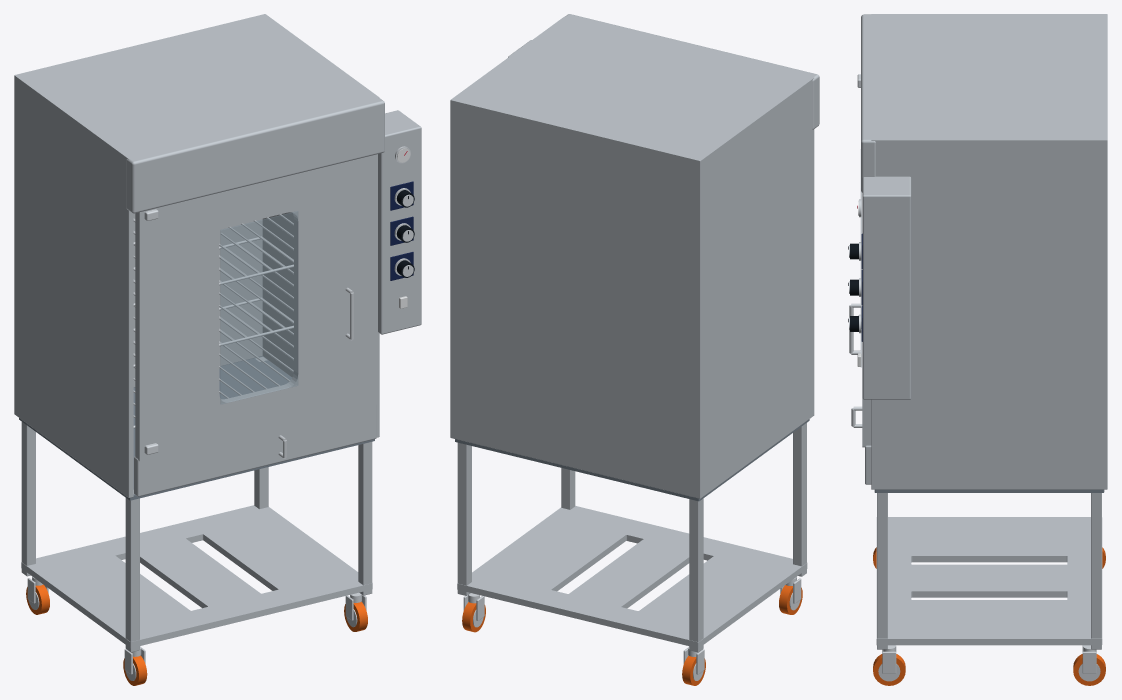
The model's file is horno-multiuso-v1.glb.
3 views of the same model, side by side, from view 1: azimuth 30°, elevation 25°; view 2: azimuth 150°, elevation 25°; view 3: azimuth 270°, elevation 25° (orthographic). The views are drawn at different scales.
Parts seen in each view (by area): view 1: Acero_satinado, Visor_vidrio, Acero_pulido, Interior_acero, Ruedas_naranjas, Placa_control_azul; view 2: Acero_satinado, Ruedas_naranjas, Acero_pulido, Interior_acero; view 3: Acero_satinado, Acero_pulido, Ruedas_naranjas, Interior_acero, Mandos_y_goma.
Part boxes in pixels (<box>): Acero_satinado: <box>14,14,421,652</box>; Visor_vidrio: <box>220,211,297,404</box>; Acero_pulido: <box>27,146,413,680</box>; Interior_acero: <box>19,356,374,500</box>; Ruedas_naranjas: <box>26,584,367,685</box>; Placa_control_azul: <box>390,181,413,280</box>; Acero_satinado: <box>450,14,819,652</box>; Ruedas_naranjas: <box>462,585,802,685</box>; Acero_pulido: <box>463,577,801,680</box>; Interior_acero: <box>455,419,809,501</box>; Acero_satinado: <box>861,14,1107,649</box>; Acero_pulido: <box>849,74,1100,681</box>; Ruedas_naranjas: <box>873,547,1105,685</box>; Interior_acero: <box>874,489,1104,492</box>; Mandos_y_goma: <box>850,243,858,331</box>.
Size of the model in its own units: 0.993 by 1.75 by 0.746.
